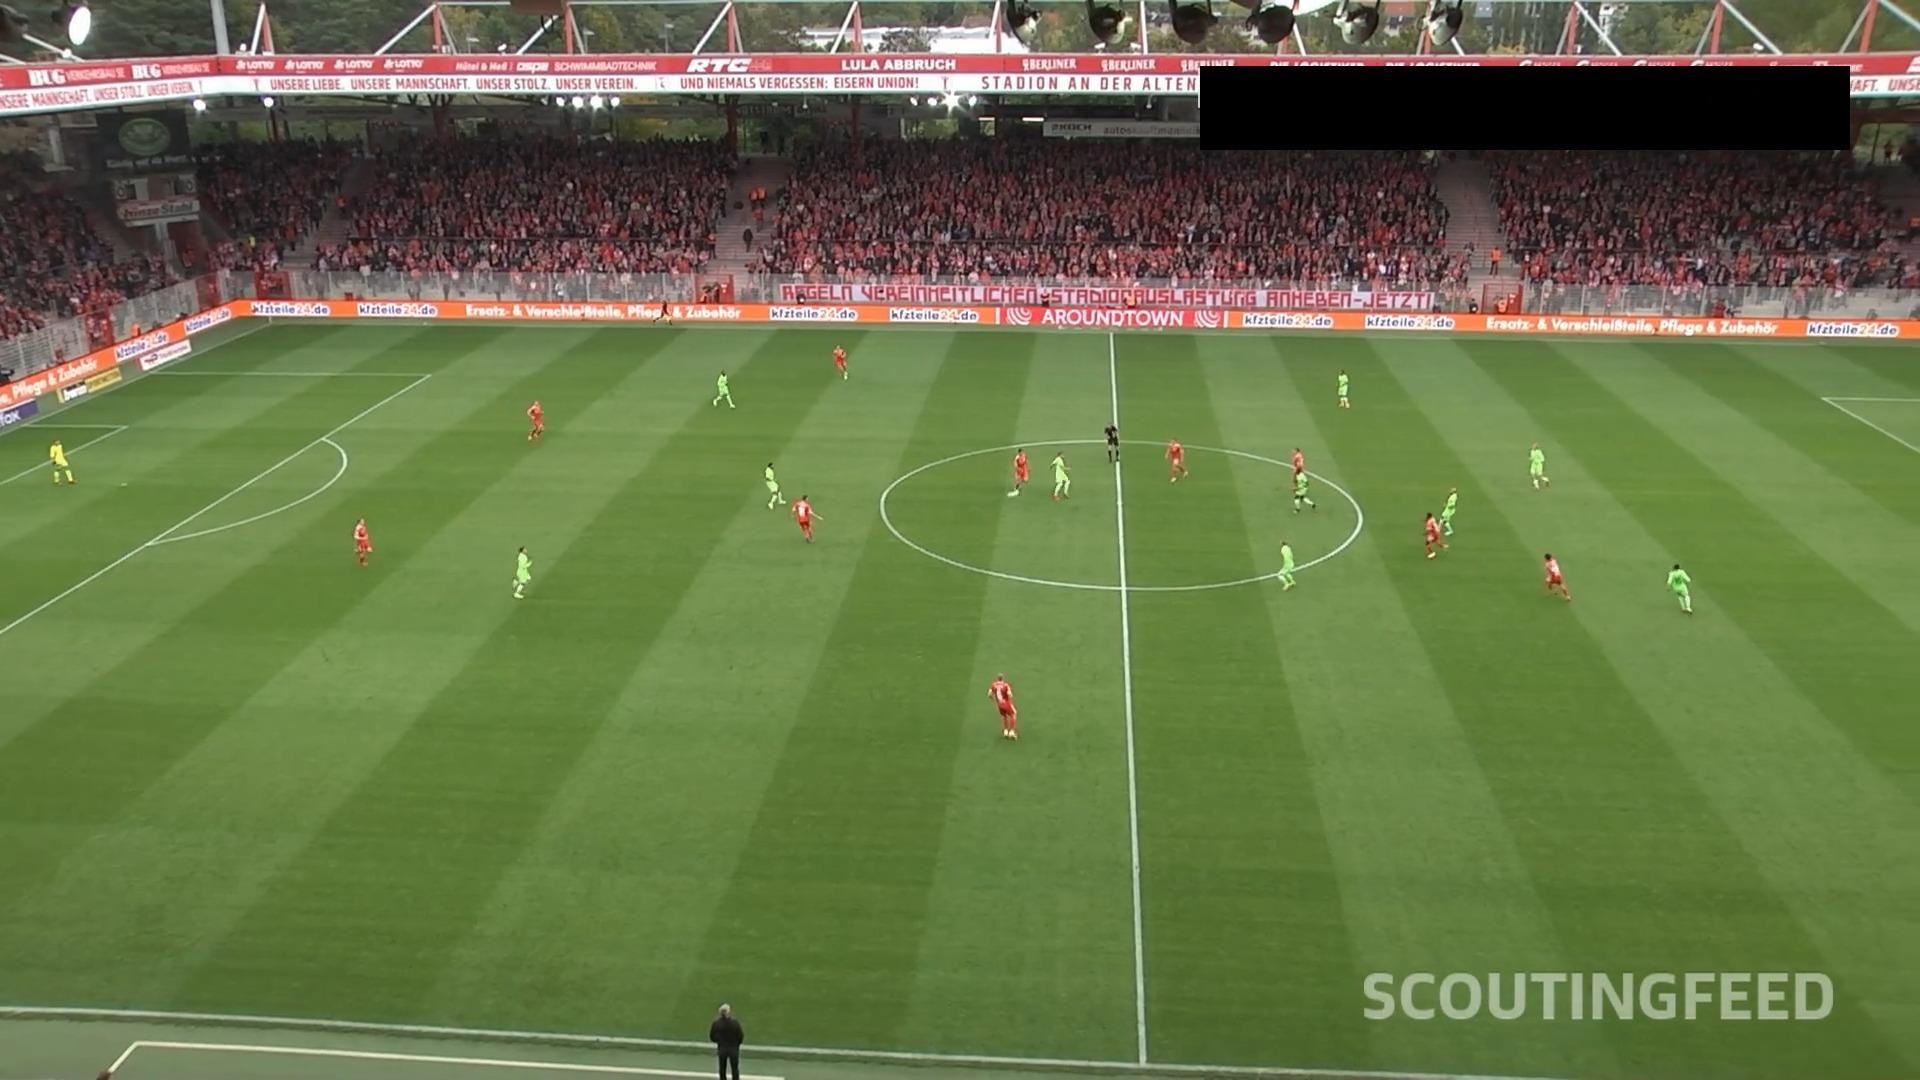ball: (1006, 489, 1017, 498)
